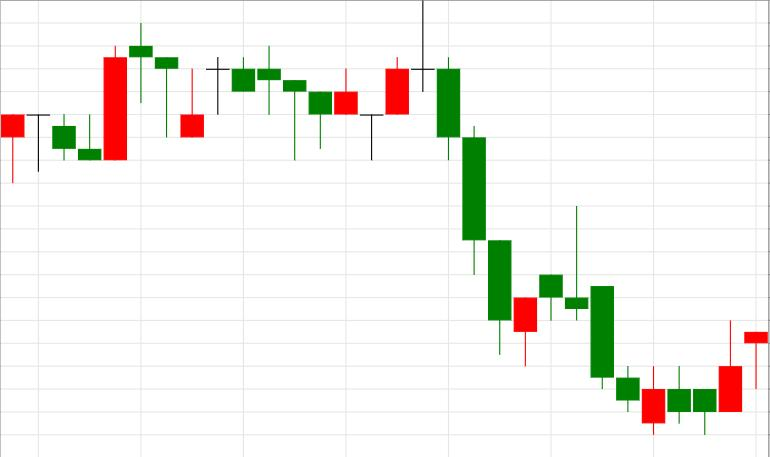hammer_rise: (411, 1, 537, 366)
